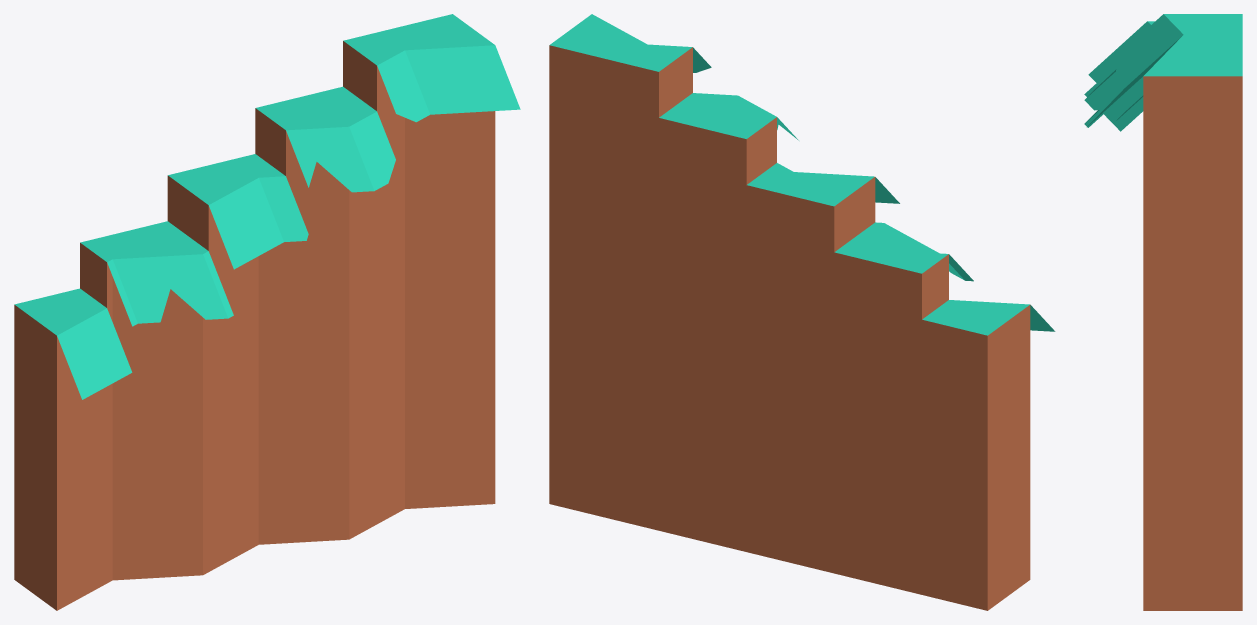
The model's file is cliff_stairBorder_upper_right_rock.fbx.
3 renders of one model, left to right at view 1: azimuth 30°, elevation 25°; view 2: azimuth 150°, elevation 25°; view 3: azimuth 270°, elevation 25°, orthographic. The views are drawn at different scales.
Visible parts, largest first — view 1: cliff_top_rock; view 2: cliff_top_rock; view 3: cliff_top_rock.
Boxes of the visible parts, x1,y1,x2,y2 form: cliff_top_rock: [14, 14, 520, 610]; cliff_top_rock: [549, 14, 1055, 610]; cliff_top_rock: [1084, 14, 1242, 610].
Size of the model in its own units: 10 by 10 by 2.68.
